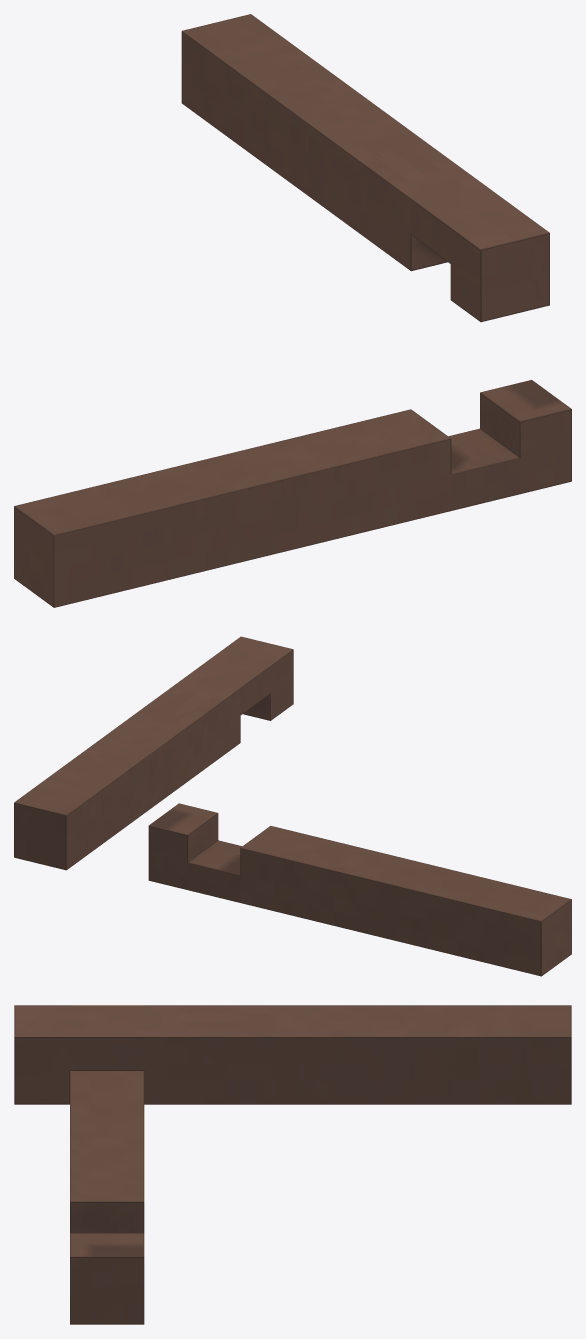
The model's file is sill-corner.glb.
3 views of the same model, one above another, from view 1: azimuth 30°, elevation 25°; view 2: azimuth 150°, elevation 25°; view 3: azimuth 270°, elevation 25° (orthographic). The views are drawn at different scales.
Visible parts, largest first — view 1: part-a, part-b; view 2: part-a, part-b; view 3: part-b, part-a.
Part boxes in pixels (bbox=[...]): part-a: bbox=[14, 380, 571, 607]; part-b: bbox=[181, 14, 549, 322]; part-a: bbox=[148, 803, 571, 976]; part-b: bbox=[14, 636, 293, 870]; part-b: bbox=[14, 1005, 571, 1104]; part-a: bbox=[70, 1071, 144, 1324].
Size of the model in its own units: 0.9008 by 0.4708 by 0.9008.
